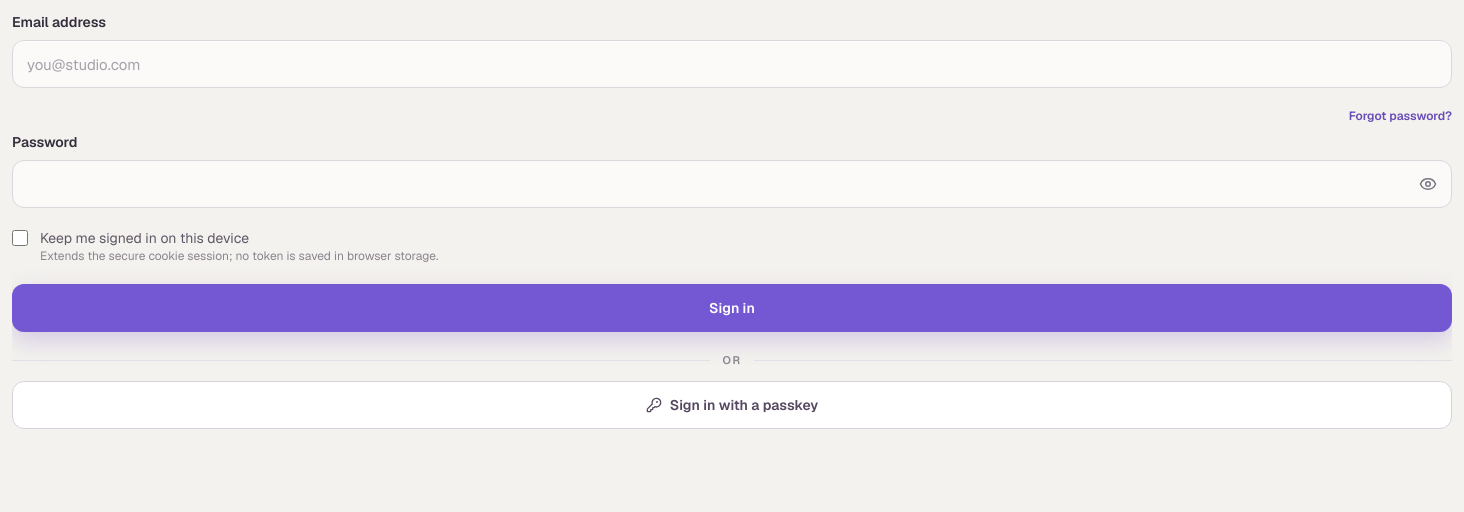
Test: identity forms › validates login fields and reports credential errors accessibly
This screenshot has width=1464, height=512.
Submit the form named "Sign in"
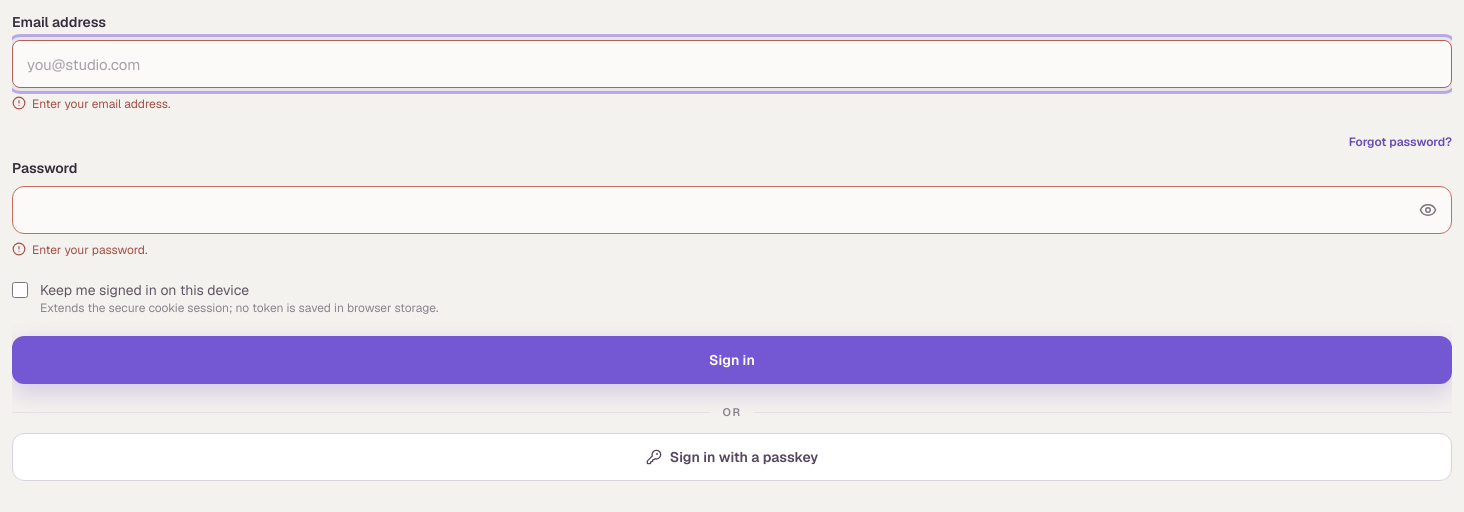
Expected: the text "Enter your email address." is shown, 12,96 -> 170,112
Expected: the text "Enter your password." is shown, 12,242 -> 147,258
Type "maya@studio.test" into the field labelled "Email address" at (732, 64), box 12,40 -> 1452,88
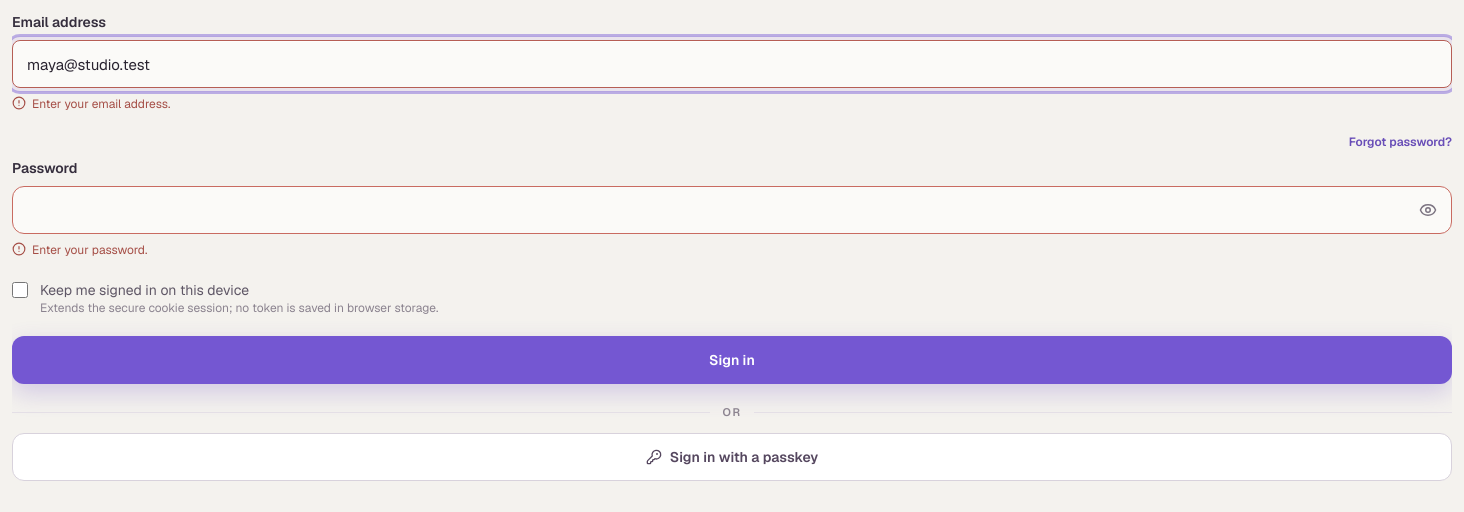
Type "wrong-password" into the password field labelled "Password" at (732, 210), box 12,186 -> 1452,234
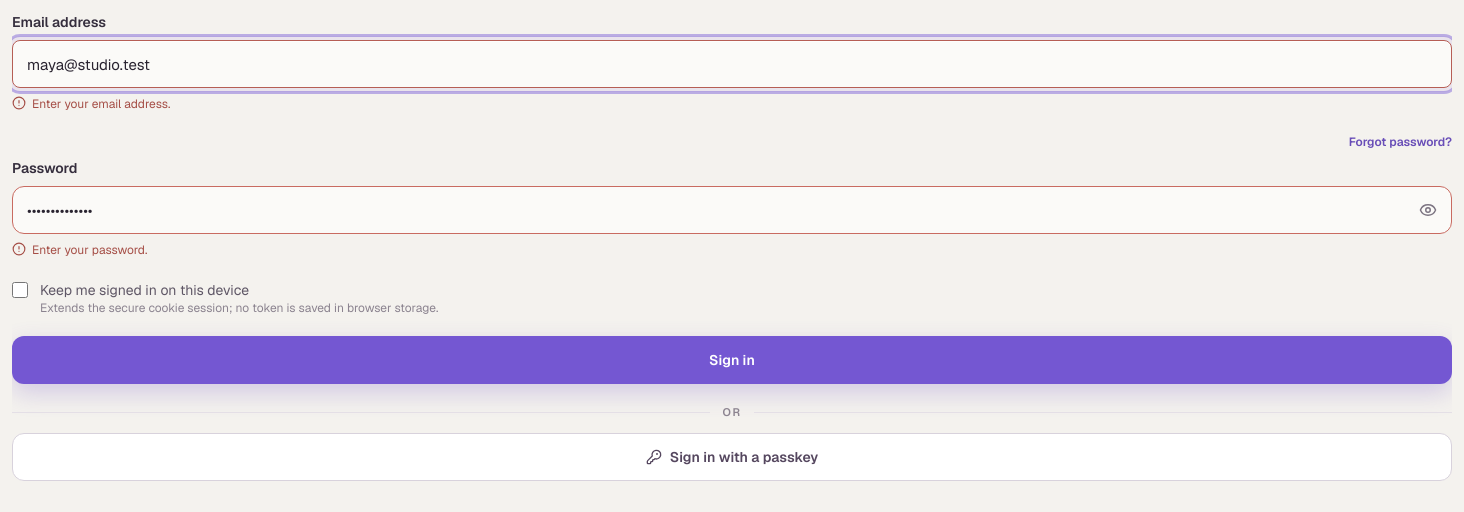
Click the button "Sign in" at (732, 360), box 12,336 -> 1452,384
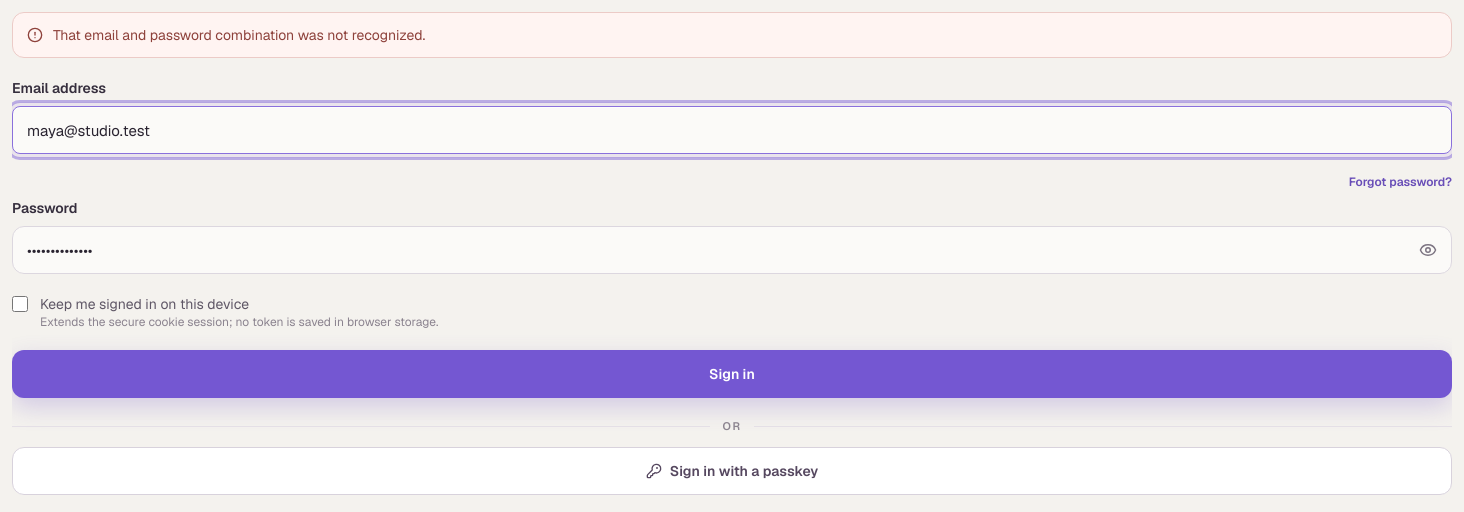
Expected: the message reads "That email and password combination was not recognized.", 53,26 -> 425,44
